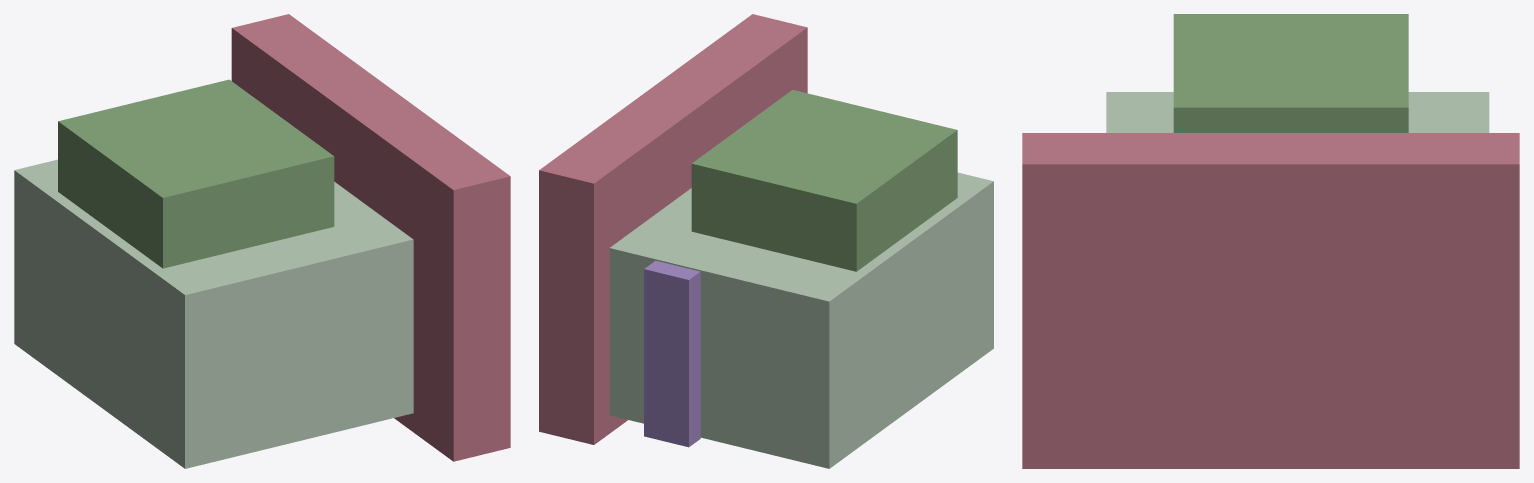
The model's file is 199510_pred.glb.
3 renders of one model, left to right at view 1: azimuth 30°, elevation 25°; view 2: azimuth 150°, elevation 25°; view 3: azimuth 270°, elevation 25°, orthographic. The views are drawn at different scales.
Visible parts, largest first — view 1: world; view 2: world; view 3: world.
Part boxes in pixels (x1,y1,x2,y2): world: [14, 14, 510, 468]; world: [539, 14, 993, 468]; world: [1022, 14, 1519, 468].
Bounding box in the file's own units: 5.55 × 5 × 7.4.
